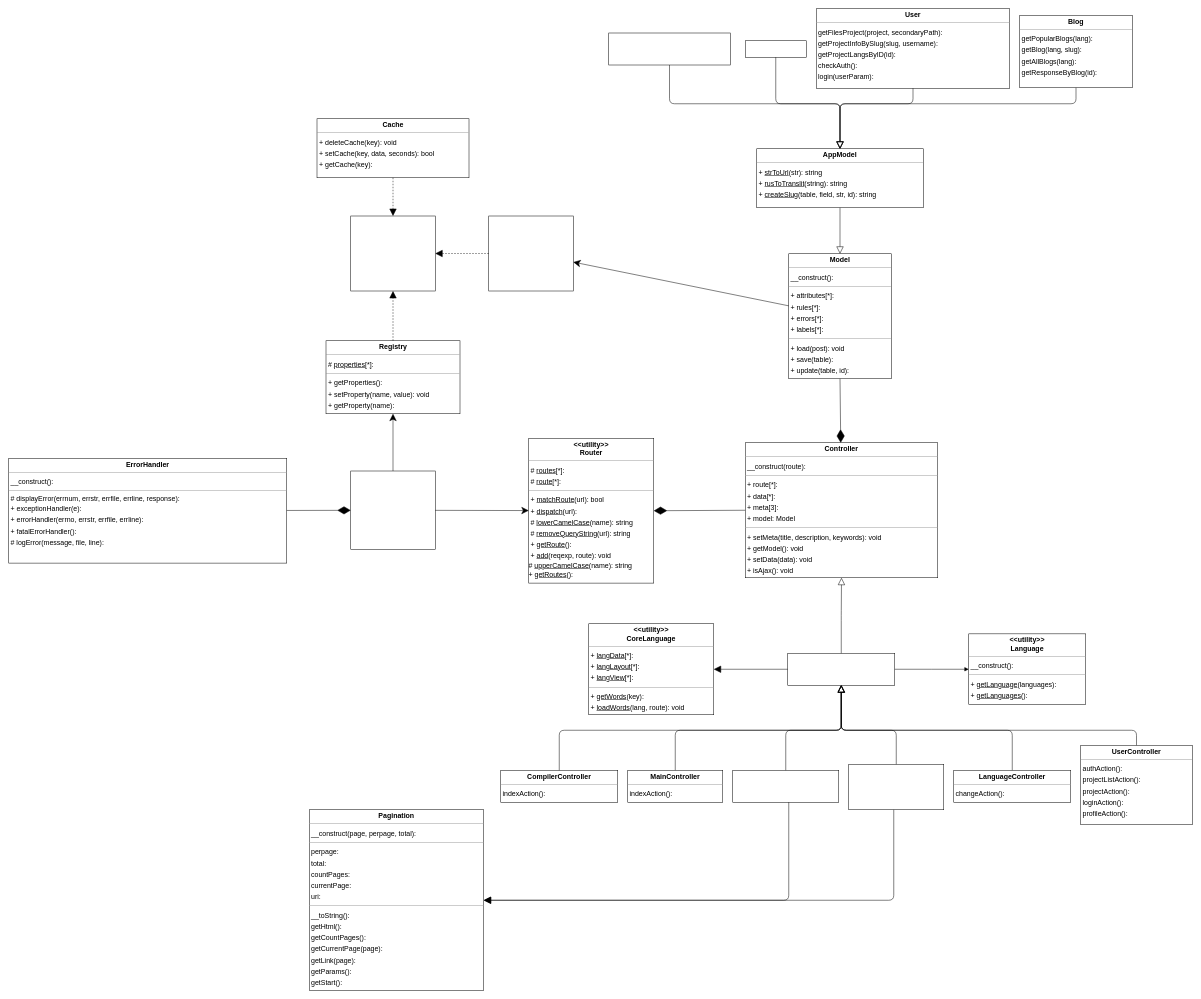
Image size: 1201x999. Some labels were removed from this diagram. The centre of each missing label's shape, as x and y in pixels:
<<utility>> App __construct(): + app: Registry + getParams(): void: the point at 392,510
AppController __construct(route):: the point at 841,669
BlogController indexAction(): viewAction():: the point at 896,787
Compiler: the point at 775,48
Course getFinishedCourse(lang):: the point at 669,48
CourseController indexAction():: the point at 785,786
DataBase __construct(): + dataBase[ * ] : + run(dataBase) : void: the point at 530,253
TSingleton __construct(): - instance : + getInstance():: the point at 392,253
